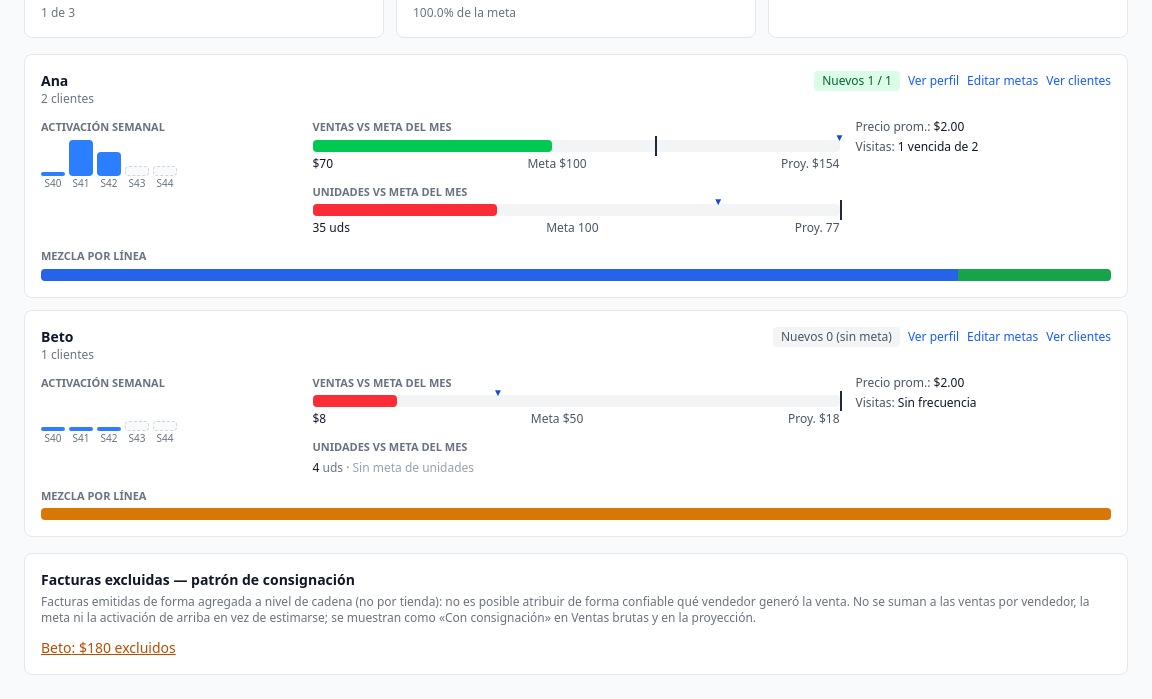
TabSeguimiento review fixes › a failed excluded-invoices request shows an error, not "Sin facturas."
This screenshot has width=1152, height=699.
(page scrolled)
Click the button "Beto: $180 excluidos".
click(108, 648)  # box [41, 638, 176, 658]
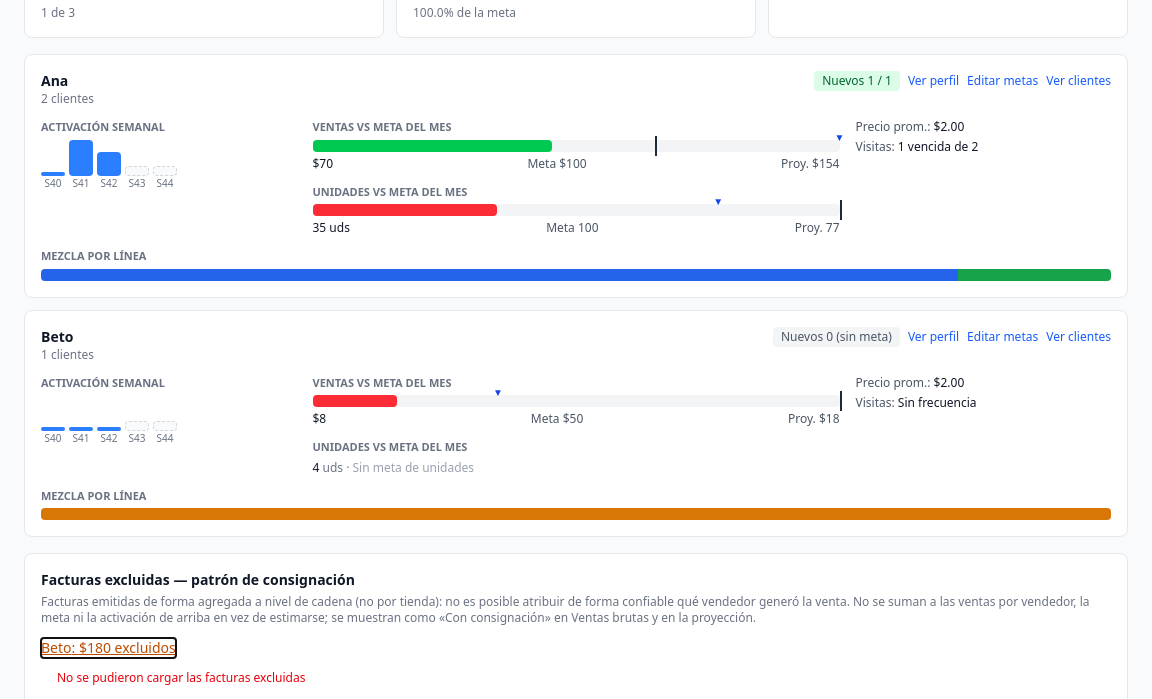
Expected: the text "No se pudieron cargar las facturas excluidas" is shown, [57, 669, 306, 686]
